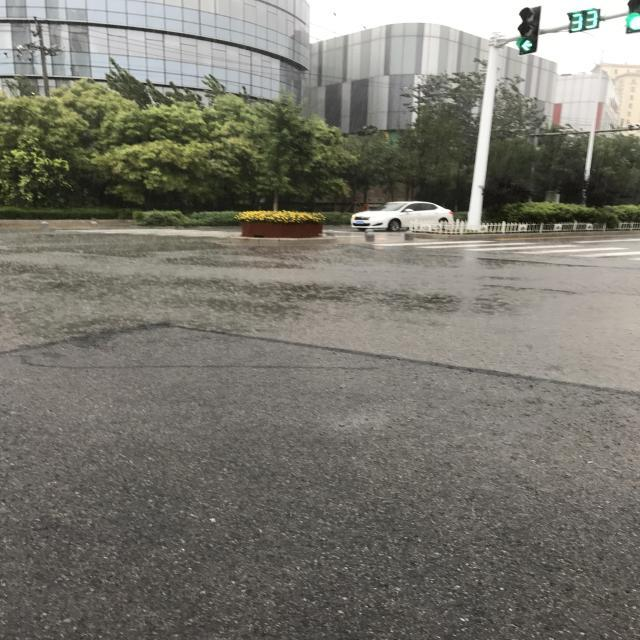car: (199, 186, 232, 290)
